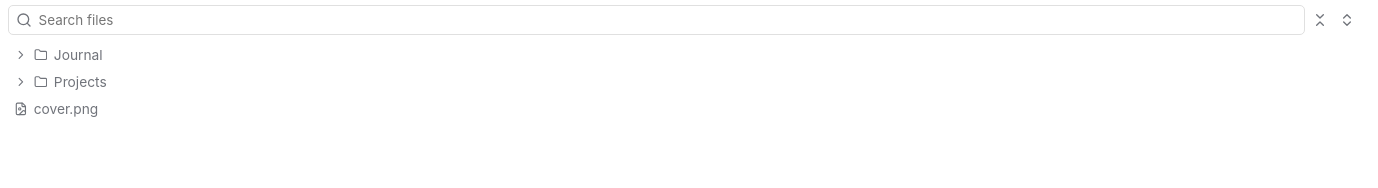
Test case: FileBrowser › expands and collapses all folders
Click the button named "Expand all".
click(1347, 20)  # box [1334, 9, 1360, 31]
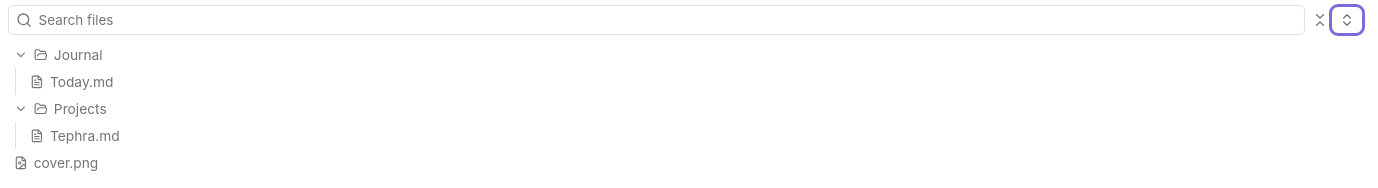
Now the button "Today.md" is shown, box [23, 68, 1366, 95]
Now the button "Tephra.md" is shown, box [23, 122, 1366, 149]
Click the button named "Collapse all".
click(1320, 20)  # box [1307, 9, 1332, 31]
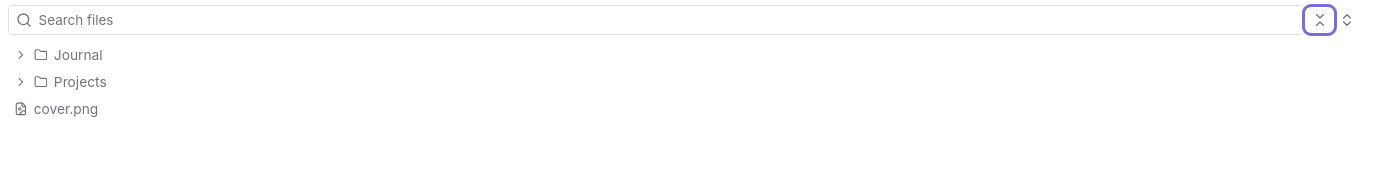
Now the button "Today.md" is gone
Now the button "Tephra.md" is gone
Now the button "Journal" is collapsed, box [6, 41, 1366, 68]
